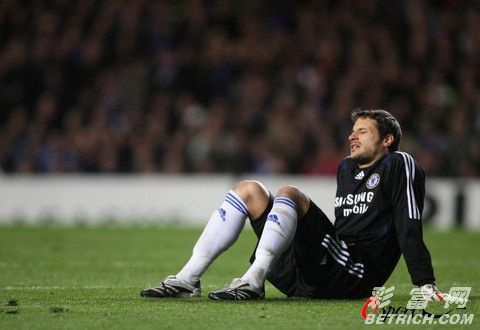falling: (146, 102, 443, 303)
